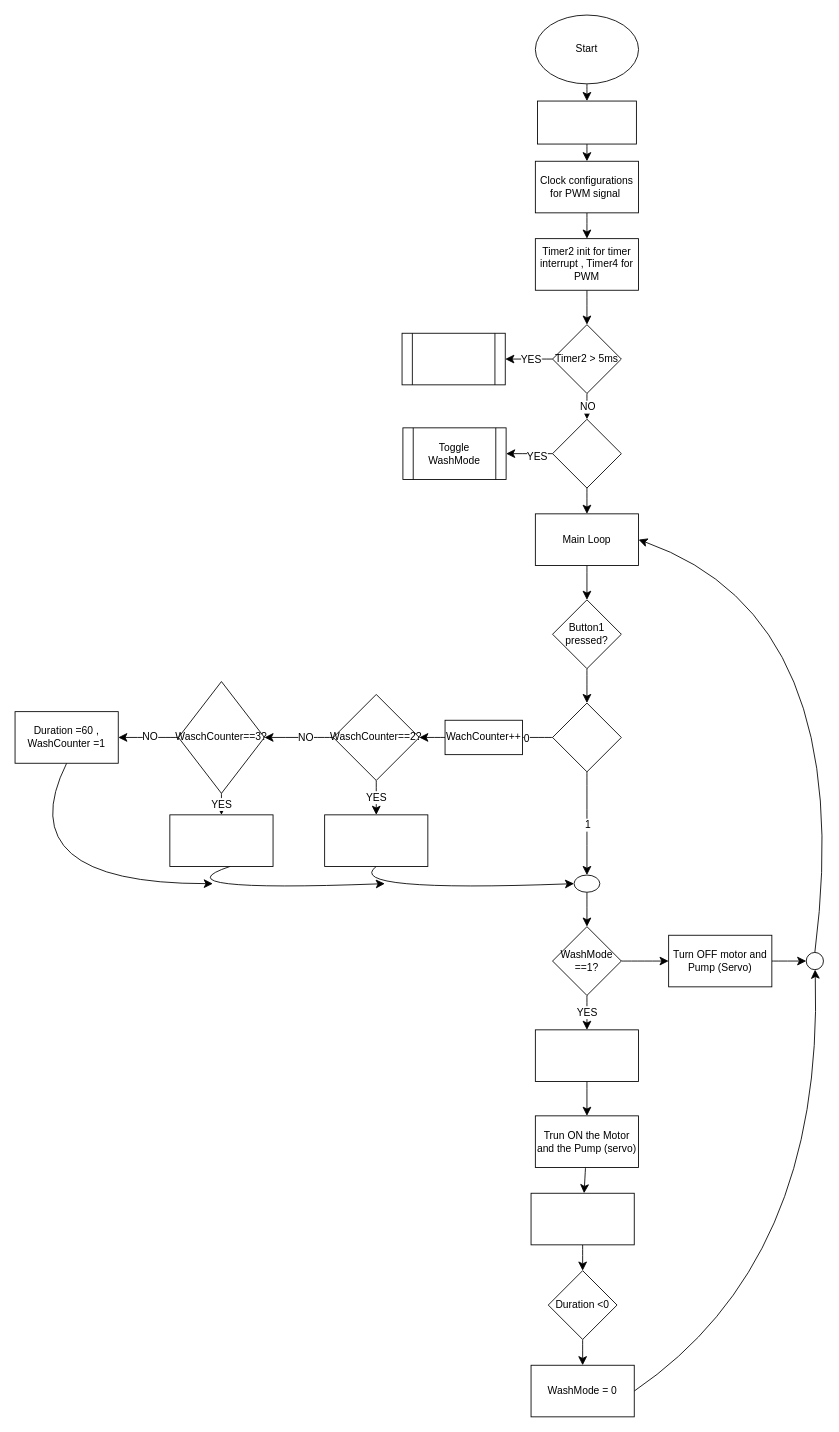
Image size: 839x1432. Some labels were removed from this diagram. Each missing label, with the centre of its shape:
Call Gpio_init() function to init the GPIOs: point (586, 122)
DisplayNum == Duration: point (586, 1055)
Duration = 40: point (221, 840)
Duration =20: point (376, 840)
Duration--: point (582, 1218)
EXTI interrupt Triggered: point (586, 453)
Interrupt for display (Displaying "DisplayNum"): point (453, 358)
WashMode?: point (586, 737)
